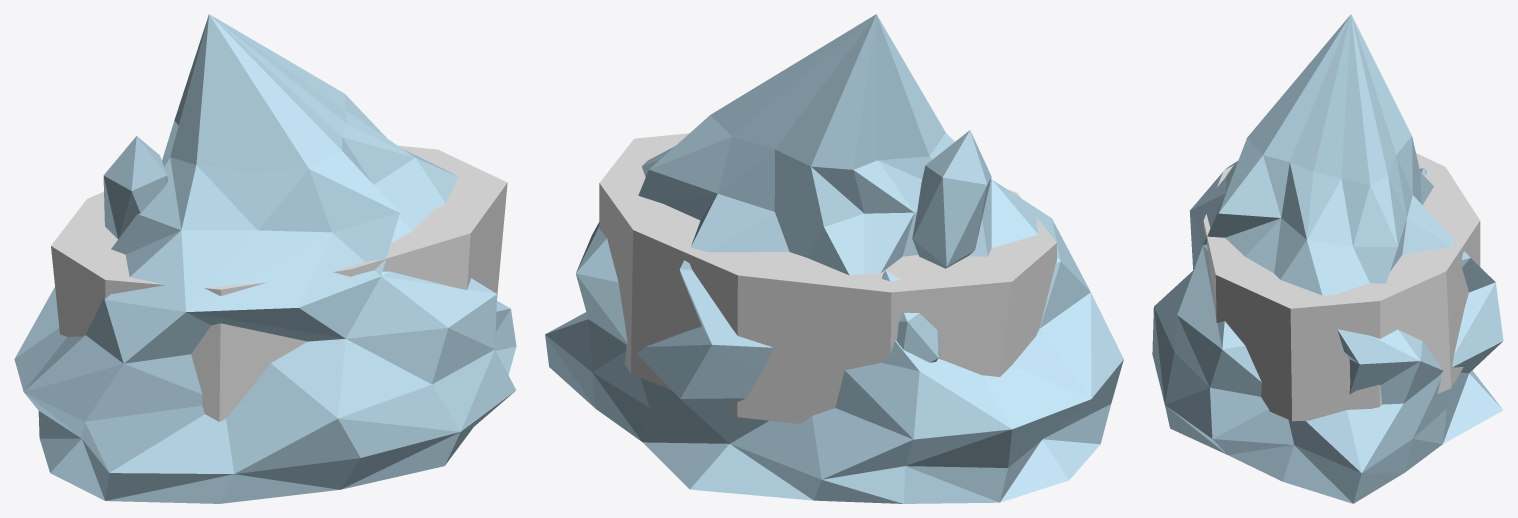
File: SM_Iceberg_M.glb
The picture shows the model from 3 angles, left to right: view 1: azimuth 30°, elevation 25°; view 2: azimuth 150°, elevation 25°; view 3: azimuth 270°, elevation 25°; orthographic projection. The views are drawn at different scales.
Parts seen in each view (by area): view 1: SM_Iceberg_M, COL_Iceberg_M; view 2: SM_Iceberg_M, COL_Iceberg_M; view 3: SM_Iceberg_M, COL_Iceberg_M.
Part boxes in pixels (box(x1,y1,x2,y2)): SM_Iceberg_M: box(14, 14, 516, 503); COL_Iceberg_M: box(51, 145, 507, 421); SM_Iceberg_M: box(545, 14, 1123, 503); COL_Iceberg_M: box(599, 133, 1056, 423); SM_Iceberg_M: box(1152, 14, 1503, 503); COL_Iceberg_M: box(1203, 153, 1480, 421).
Size of the model in its own units: 15.72 by 12.45 by 10.84.
